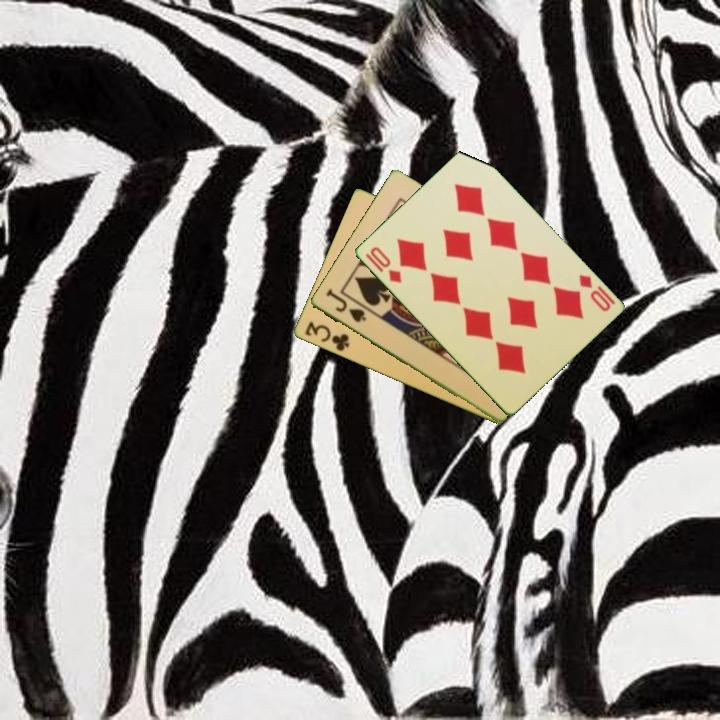10d: (575, 271, 618, 315), (366, 243, 404, 286)
3c: (301, 318, 352, 354)
Js: (322, 286, 369, 325)
